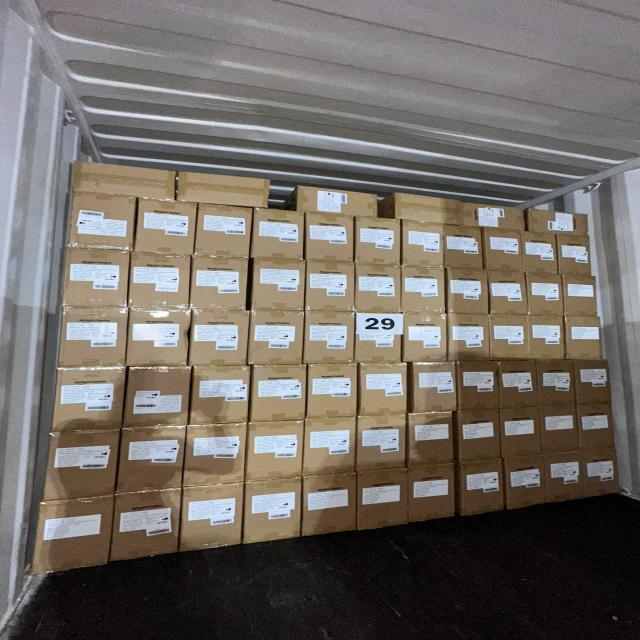Carton: (33, 497, 116, 575), (113, 488, 183, 562), (40, 430, 116, 498), (50, 368, 124, 435), (67, 158, 177, 203), (118, 426, 187, 493), (180, 487, 244, 555), (60, 307, 129, 370), (125, 364, 193, 426), (61, 248, 129, 309), (175, 169, 272, 211), (70, 193, 138, 252), (183, 422, 246, 485), (244, 478, 303, 545), (127, 310, 192, 369), (129, 252, 191, 310), (305, 474, 360, 539), (191, 310, 251, 369), (192, 363, 252, 422), (247, 422, 305, 482), (138, 199, 199, 256), (250, 310, 306, 368), (356, 471, 408, 533), (253, 367, 309, 424), (302, 416, 356, 475), (190, 257, 248, 311), (196, 205, 253, 259), (357, 416, 408, 474), (294, 184, 381, 218), (253, 259, 308, 312), (309, 365, 361, 421), (252, 207, 306, 259), (358, 363, 409, 417), (410, 466, 457, 524), (304, 312, 354, 366), (458, 461, 506, 516), (407, 412, 455, 467), (308, 261, 358, 312), (354, 314, 402, 367), (409, 362, 457, 414), (456, 409, 502, 462), (304, 216, 354, 264), (578, 446, 624, 498), (392, 191, 463, 224), (354, 264, 400, 314), (354, 214, 400, 264), (404, 313, 448, 365), (403, 265, 448, 315), (445, 314, 490, 364), (500, 407, 543, 458), (504, 458, 544, 512), (444, 268, 487, 316), (460, 359, 500, 410), (526, 206, 590, 237), (460, 201, 526, 231), (401, 223, 444, 269), (546, 454, 583, 506), (497, 358, 537, 406), (487, 270, 528, 316), (491, 316, 530, 362), (575, 405, 612, 453), (443, 223, 481, 269), (564, 318, 603, 362), (482, 230, 522, 272), (540, 358, 576, 404), (530, 316, 566, 362), (526, 273, 564, 316), (542, 408, 579, 452), (572, 358, 608, 402), (521, 234, 557, 275), (557, 236, 591, 278), (562, 276, 596, 317)
